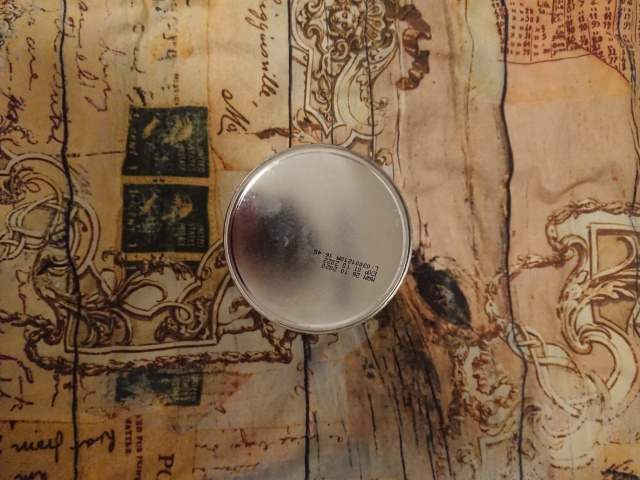Nescafe Classic 225g: (218, 140, 417, 339)
